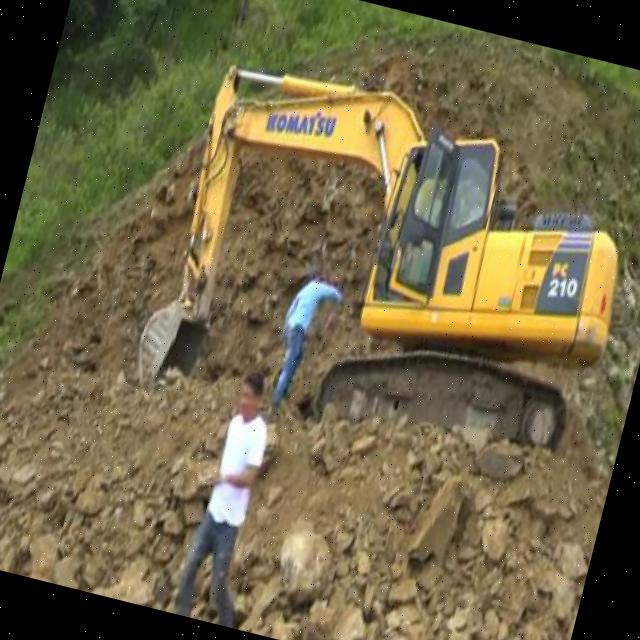Excavator: (123, 37, 640, 501)
